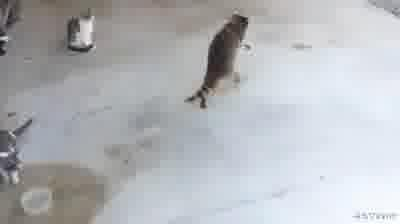raccoon: (182, 13, 254, 113)
